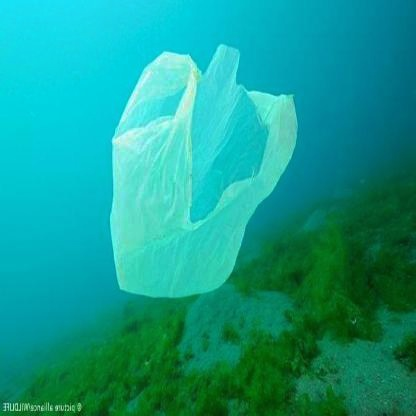pbag: (110, 43, 298, 302)
